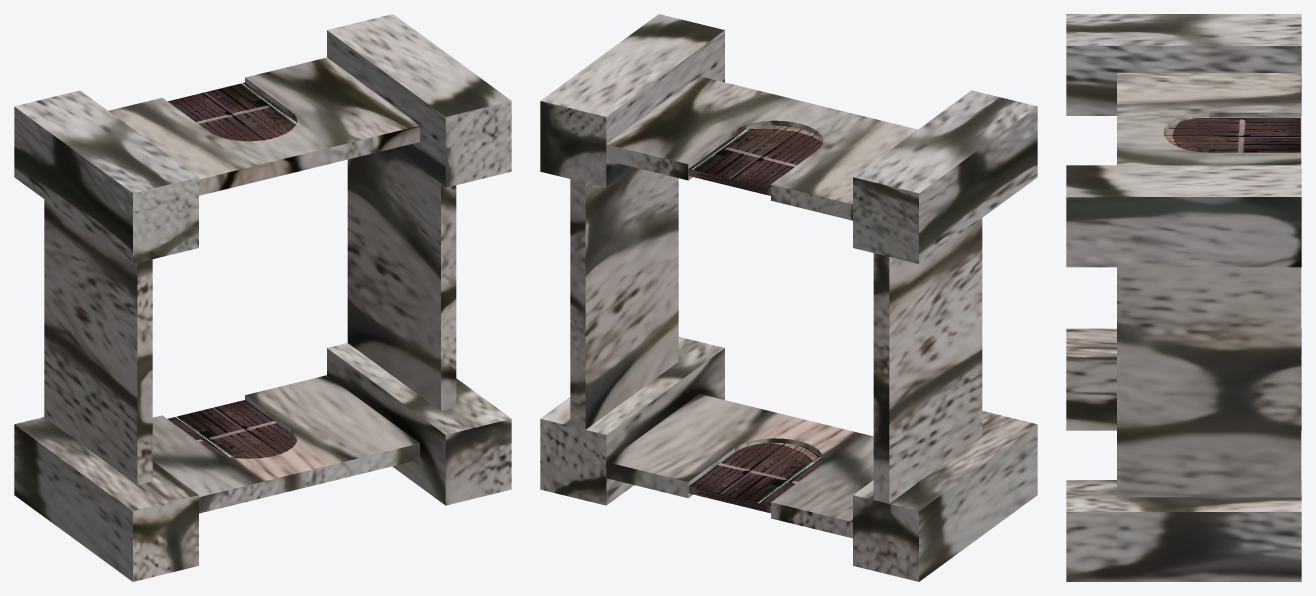
File: base.baked.gltf
3 views of the same model, side by side, from view 1: azimuth 30°, elevation 25°; view 2: azimuth 150°, elevation 25°; view 3: azimuth 270°, elevation 25° (orthographic).
Visible parts, largest first — view 1: Towers, Doors; view 2: Towers, Doors; view 3: Towers, Doors.
Part boxes in pixels (bbox=[...]): Towers: bbox=[14, 14, 511, 581]; Doors: bbox=[167, 82, 296, 458]; Towers: bbox=[540, 14, 1037, 581]; Doors: bbox=[688, 125, 822, 513]; Towers: bbox=[1066, 14, 1301, 581]; Doors: bbox=[1164, 117, 1300, 152].
Size of the model in its own units: 4.7 by 4.61 by 2.55.
Materials: 2 (2 with a texture image).
